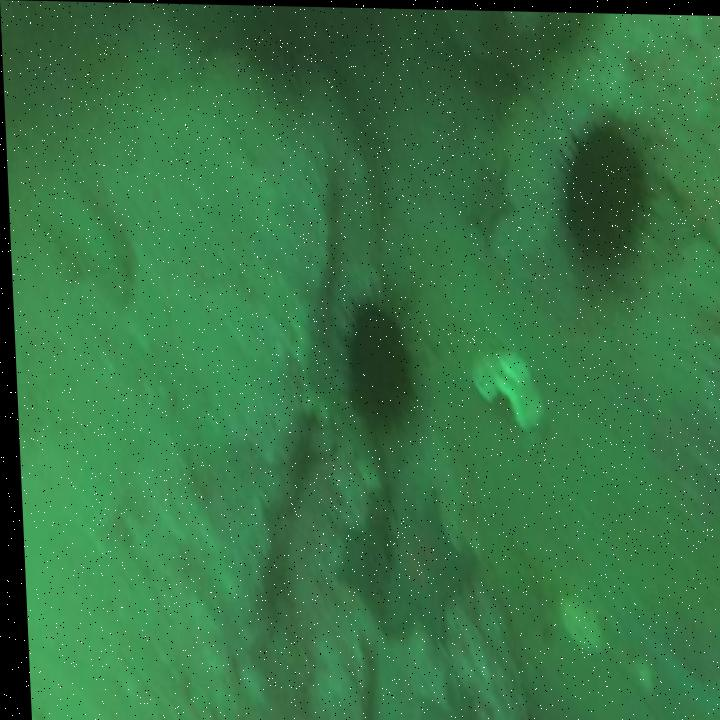echinus: (561, 125, 646, 262), (344, 305, 410, 421)
starfish: (379, 483, 463, 630), (330, 526, 382, 616), (463, 152, 511, 237)
